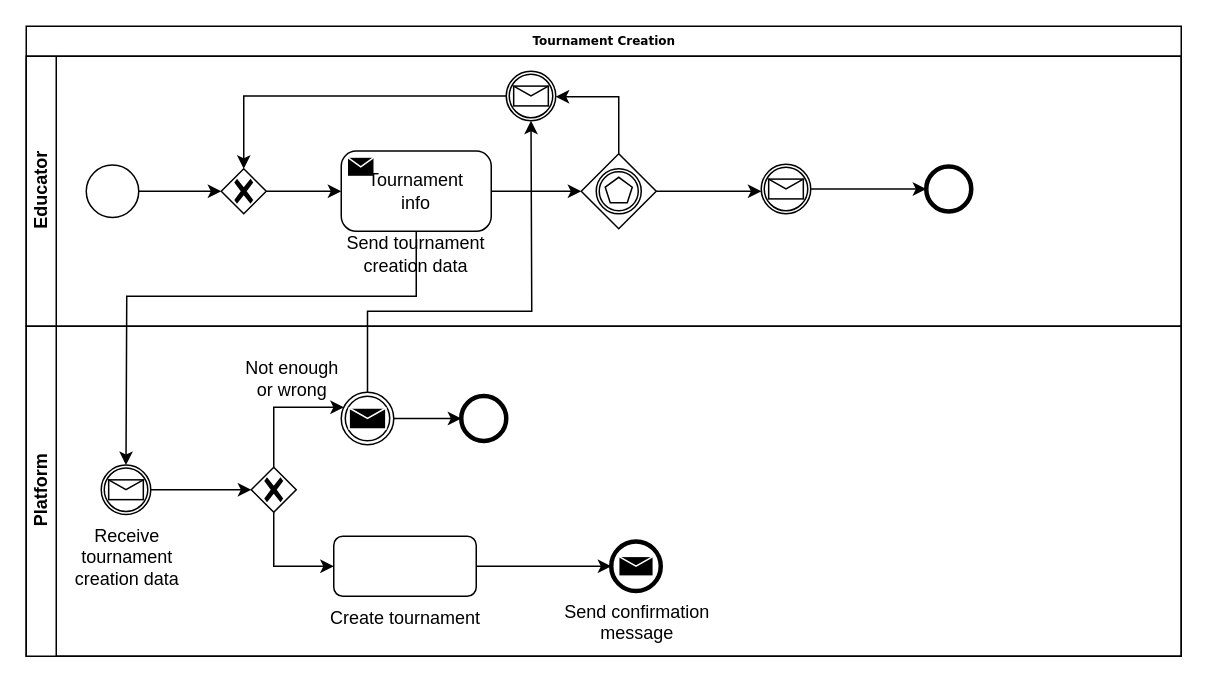
The diagram is 1208 pixels wide and 683 high, and some of its shapes have lost their labels. The centre of each missing label's shape, as x and y in pixels:
"Receive confirmation message" belongs at [785,188].
"Receive error message" belongs at [530,95].
"Send error message" belongs at [367,418].
